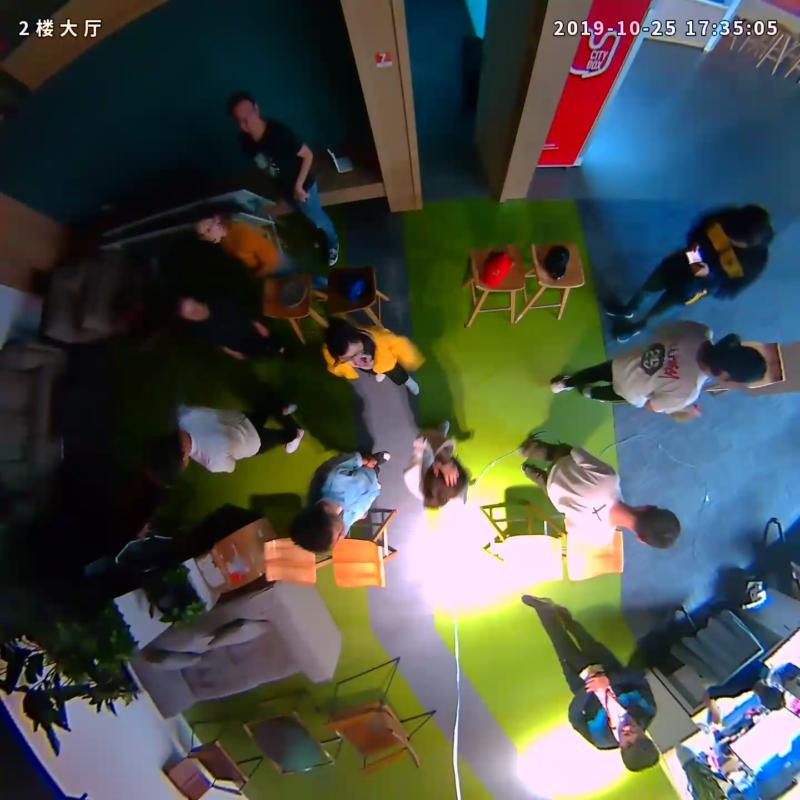head: (291, 498, 348, 554), (140, 431, 193, 485), (420, 455, 472, 509), (714, 339, 767, 389), (628, 503, 681, 551), (618, 718, 660, 773), (723, 204, 770, 249), (328, 319, 367, 369), (163, 286, 212, 325), (189, 203, 227, 244), (227, 93, 260, 134)
